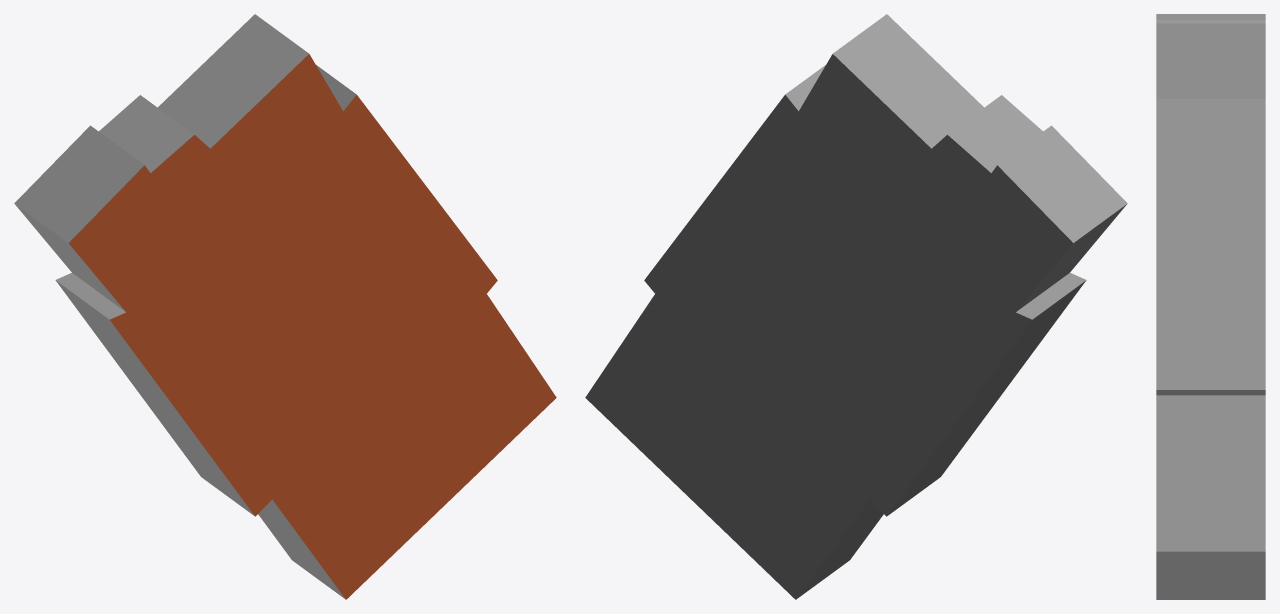
File: construction_1563_assumed_A_Casa_h6m.obj
The picture shows the model from 3 angles, left to right: view 1: azimuth 30°, elevation 25°; view 2: azimuth 150°, elevation 25°; view 3: azimuth 270°, elevation 25°; orthographic projection.
Visible parts, largest first — view 1: construction_1563_assumed_A_Casa; view 2: construction_1563_assumed_A_Casa; view 3: construction_1563_assumed_A_Casa.
Boxes of the visible parts, box(x1,y1,x2,y2) form: construction_1563_assumed_A_Casa: box(14, 14, 556, 599); construction_1563_assumed_A_Casa: box(585, 14, 1127, 599); construction_1563_assumed_A_Casa: box(1156, 14, 1265, 599).
Bounding box in the file's own units: 31.15 × 33.85 × 6.
